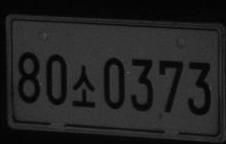0: (102, 56, 126, 110), (44, 53, 68, 106)
3: (186, 61, 212, 116), (130, 58, 154, 111)
7: (158, 59, 185, 113)
8: (16, 50, 42, 105)
소: (72, 64, 96, 108)
